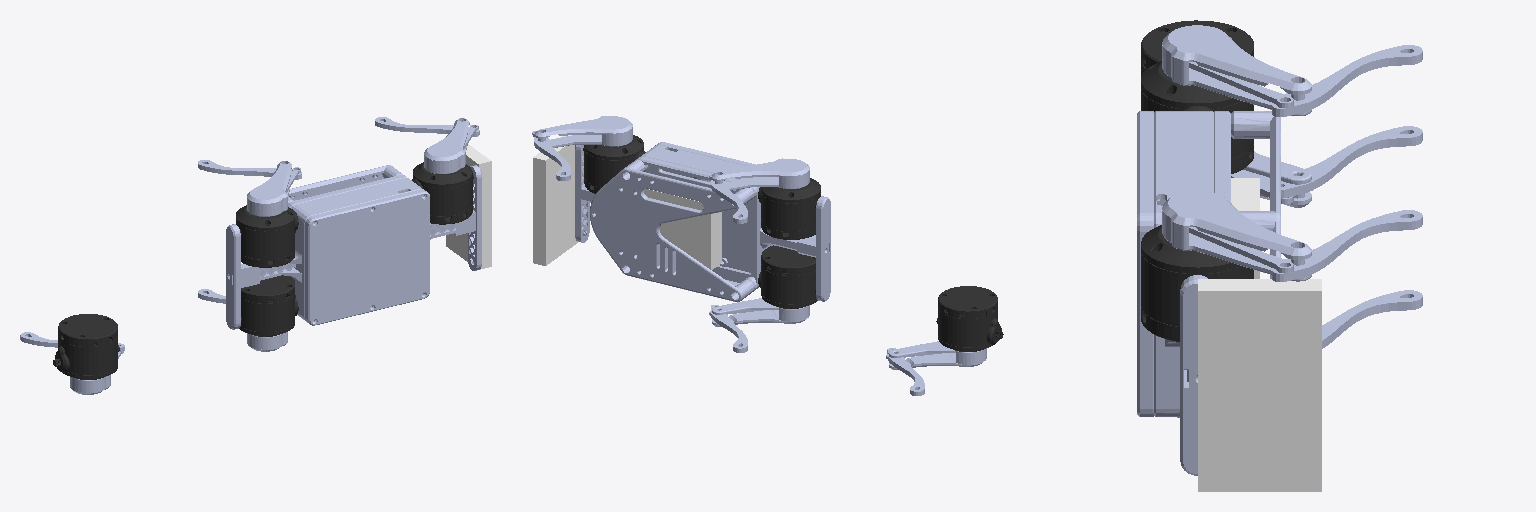
URDF robot description (sku_2Full_assem_simplified_urdf):
<?xml version="1.0" encoding="utf-8"?>
<!-- This URDF was automatically created by SolidWorks to URDF Exporter! Originally created by Stephen Brawner (brawner@gmail.com) 
     Commit Version: 1.6.0-4-g7f85cfe  Build Version: 1.6.7995.38578
     For more information, please see http://wiki.ros.org/sw_urdf_exporter -->
<robot
  name="sku_2Full_assem_simplified_urdf">
  <link
    name="base_body_link">
    <inertial>
      <origin
        xyz="-0.01443514290354 -0.00488145339193701 0.00021453488507993"
        rpy="0 0 0" />
      <mass
        value="0.0844060265233664" />
      <inertia
        ixx="5.48317928616203E-05"
        ixy="3.88290196395637E-07"
        ixz="-2.29831979096762E-07"
        iyy="0.00014634291245006"
        iyz="-2.94795551151482E-08"
        izz="9.41109116990543E-05" />
    </inertial>
    <visual>
      <origin
        xyz="0 0 0"
        rpy="0 0 0" />
      <geometry>
        <mesh
          filename="package://sku_2Full_assem_simplified_urdf/meshes/base_body_link.STL" />
      </geometry>
      <material
        name="">
        <color
          rgba="0.792156862745098 0.819607843137255 0.933333333333333 1" />
      </material>
    </visual>
    <collision>
      <origin
        xyz="0 0 0"
        rpy="0 0 0" />
      <geometry>
        <mesh
          filename="package://sku_2Full_assem_simplified_urdf/meshes/base_body_link.STL" />
      </geometry>
    </collision>
  </link>
  <link
    name="hip_bl_link">
    <inertial>
      <origin
        xyz="0.00305739454529882 0.000222353752204167 0.000996570525543791"
        rpy="0 0 0" />
      <mass
        value="0.0124676995873331" />
      <inertia
        ixx="2.69874411500774E-06"
        ixy="6.31258788275372E-09"
        ixz="-4.98143268777634E-09"
        iyy="1.55229128801334E-06"
        iyz="2.11234692032595E-08"
        izz="1.7188911580115E-06" />
    </inertial>
    <visual>
      <origin
        xyz="0 0 0"
        rpy="0 0 0" />
      <geometry>
        <mesh
          filename="package://sku_2Full_assem_simplified_urdf/meshes/hip_bl_link.STL" />
      </geometry>
      <material
        name="">
        <color
          rgba="0.250980392156863 0.250980392156863 0.250980392156863 1" />
      </material>
    </visual>
    <collision>
      <origin
        xyz="0 0 0"
        rpy="0 0 0" />
      <geometry>
        <mesh
          filename="package://sku_2Full_assem_simplified_urdf/meshes/hip_bl_link.STL" />
      </geometry>
    </collision>
  </link>
  <joint
    name="hip_bl_joint"
    type="continuous">
    <origin
      xyz="-0.0831779908891791 -0.00295599439912009 -0.0315938689216698"
      rpy="3.14159265358979 -1.5707963267949 0" />
    <parent
      link="base_body_link" />
    <child
      link="hip_bl_link" />
    <axis
      xyz="0 0 -1" />
  </joint>
  <link
    name="upper_leg_bl_link">
    <inertial>
      <origin
        xyz="-0.0112951223266859 0.00940773385654374 0.00648095878313921"
        rpy="0 0 0" />
      <mass
        value="0.00590371930115601" />
      <inertia
        ixx="9.4225779285068E-07"
        ixy="7.85648315383251E-07"
        ixz="-3.38240972987907E-08"
        iyy="1.08785583560813E-06"
        iyz="2.9608561624401E-08"
        izz="1.99013899424611E-06" />
    </inertial>
    <visual>
      <origin
        xyz="0 0 0"
        rpy="0 0 0" />
      <geometry>
        <mesh
          filename="package://sku_2Full_assem_simplified_urdf/meshes/upper_leg_bl_link.STL" />
      </geometry>
      <material
        name="">
        <color
          rgba="0.792156862745098 0.819607843137255 0.933333333333333 1" />
      </material>
    </visual>
    <collision>
      <origin
        xyz="0 0 0"
        rpy="0 0 0" />
      <geometry>
        <mesh
          filename="package://sku_2Full_assem_simplified_urdf/meshes/upper_leg_bl_link.STL" />
      </geometry>
    </collision>
  </link>
  <joint
    name="upper_leg_bl_joint"
    type="continuous">
    <origin
      xyz="-0.012475 0 0"
      rpy="3.14159265358979 1.5707963267949 0" />
    <parent
      link="hip_bl_link" />
    <child
      link="upper_leg_bl_link" />
    <axis
      xyz="0 0 -1" />
  </joint>
  <link
    name="lower_leg_bl_link">
    <inertial>
      <origin
        xyz="0.0175539174913911 0.0154933945838087 -4.56848645857821E-08"
        rpy="0 0 0" />
      <mass
        value="0.00154021620116647" />
      <inertia
        ixx="3.28201483564658E-07"
        ixy="-3.46810154724942E-07"
        ixz="1.50431406009367E-12"
        iyy="3.97708266889872E-07"
        iyz="7.54119366936283E-13"
        izz="7.23114297685854E-07" />
    </inertial>
    <visual>
      <origin
        xyz="0 0 0"
        rpy="0 0 0" />
      <geometry>
        <mesh
          filename="package://sku_2Full_assem_simplified_urdf/meshes/lower_leg_bl_link.STL" />
      </geometry>
      <material
        name="">
        <color
          rgba="0.792156862745098 0.819607843137255 0.933333333333333 1" />
      </material>
    </visual>
    <collision>
      <origin
        xyz="0 0 0"
        rpy="0 0 0" />
      <geometry>
        <mesh
          filename="package://sku_2Full_assem_simplified_urdf/meshes/lower_leg_bl_link.STL" />
      </geometry>
    </collision>
  </link>
  <joint
    name="lower_leg_bl_joint"
    type="continuous">
    <origin
      xyz="-0.0353553390593255 0.0353553390593252 0.00365000000000001"
      rpy="0 0 0" />
    <parent
      link="upper_leg_bl_link" />
    <child
      link="lower_leg_bl_link" />
    <axis
      xyz="0 0 1" />
  </joint>
  <link
    name="hip_br_link">
    <inertial>
      <origin
        xyz="-0.00305739454529885 -0.000222353752204162 0.00099657052554375"
        rpy="0 0 0" />
      <mass
        value="0.0124676995873331" />
      <inertia
        ixx="2.69874411500774E-06"
        ixy="6.31258788275444E-09"
        ixz="4.98143268777621E-09"
        iyy="1.55229128801333E-06"
        iyz="-2.11234692032608E-08"
        izz="1.7188911580115E-06" />
    </inertial>
    <visual>
      <origin
        xyz="0 0 0"
        rpy="0 0 0" />
      <geometry>
        <mesh
          filename="package://sku_2Full_assem_simplified_urdf/meshes/hip_br_link.STL" />
      </geometry>
      <material
        name="">
        <color
          rgba="0.250980392156863 0.250980392156863 0.250980392156863 1" />
      </material>
    </visual>
    <collision>
      <origin
        xyz="0 0 0"
        rpy="0 0 0" />
      <geometry>
        <mesh
          filename="package://sku_2Full_assem_simplified_urdf/meshes/hip_br_link.STL" />
      </geometry>
    </collision>
  </link>
  <joint
    name="hip_br_joint"
    type="continuous">
    <origin
      xyz="-0.083178 -0.002956 0.031406"
      rpy="3.1416 -1.5708 0" />
    <parent
      link="base_body_link" />
    <child
      link="hip_br_link" />
    <axis
      xyz="0 0 -1" />
  </joint>
  <link
    name="upper_leg_br_link">
    <inertial>
      <origin
        xyz="-0.0112951164767254 0.00940773649111169 -0.00648096391164668"
        rpy="0 0 0" />
      <mass
        value="0.00590370934940819" />
      <inertia
        ixx="9.42257845048413E-07"
        ixy="7.85649018987107E-07"
        ixz="3.38242966092714E-08"
        iyy="1.08785613726443E-06"
        iyz="-2.96086024836601E-08"
        izz="1.99013930006325E-06" />
    </inertial>
    <visual>
      <origin
        xyz="0 0 0"
        rpy="0 0 0" />
      <geometry>
        <mesh
          filename="package://sku_2Full_assem_simplified_urdf/meshes/upper_leg_br_link.STL" />
      </geometry>
      <material
        name="">
        <color
          rgba="0.792156862745098 0.819607843137255 0.933333333333333 1" />
      </material>
    </visual>
    <collision>
      <origin
        xyz="0 0 0"
        rpy="0 0 0" />
      <geometry>
        <mesh
          filename="package://sku_2Full_assem_simplified_urdf/meshes/upper_leg_br_link.STL" />
      </geometry>
    </collision>
  </link>
  <joint
    name="upper_leg_br_joint"
    type="continuous">
    <origin
      xyz="0.012475 0 0"
      rpy="3.14159265358979 1.5707963267949 0" />
    <parent
      link="hip_br_link" />
    <child
      link="upper_leg_br_link" />
    <axis
      xyz="0 0 -1" />
  </joint>
  <link
    name="lower_leg_br_link">
    <inertial>
      <origin
        xyz="-0.0178014215679345 0.0508487336431342 -0.00365004568486459"
        rpy="0 0 0" />
      <mass
        value="0.00154021620116648" />
      <inertia
        ixx="3.28201483564671E-07"
        ixy="-3.46810154724945E-07"
        ixz="1.50431406013228E-12"
        iyy="3.97708266889863E-07"
        iyz="7.54119366978198E-13"
        izz="7.23114297685858E-07" />
    </inertial>
    <visual>
      <origin
        xyz="0 0 0"
        rpy="0 0 0" />
      <geometry>
        <mesh
          filename="package://sku_2Full_assem_simplified_urdf/meshes/lower_leg_br_link.STL" />
      </geometry>
      <material
        name="">
        <color
          rgba="0.792156862745098 0.819607843137255 0.933333333333333 1" />
      </material>
    </visual>
    <collision>
      <origin
        xyz="0 0 0"
        rpy="0 0 0" />
      <geometry>
        <mesh
          filename="package://sku_2Full_assem_simplified_urdf/meshes/lower_leg_br_link.STL" />
      </geometry>
    </collision>
  </link>
  <joint
    name="lower_leg_br_joint"
    type="continuous">
    <origin
      xyz="0 0 0"
      rpy="0 0 0" />
    <parent
      link="upper_leg_br_link" />
    <child
      link="lower_leg_br_link" />
    <axis
      xyz="0 0 1" />
  </joint>
  <link
    name="hip_fl_link">
    <inertial>
      <origin
        xyz="-0.0599426054547011 -0.000222353752201928 -0.13763172625287"
        rpy="0 0 0" />
      <mass
        value="0.0124676995873331" />
      <inertia
        ixx="2.69874411500775E-06"
        ixy="-6.31258788275412E-09"
        ixz="4.98143268777663E-09"
        iyy="1.55229128801334E-06"
        iyz="2.11234692032556E-08"
        izz="1.7188911580115E-06" />
    </inertial>
    <visual>
      <origin
        xyz="0 0 0"
        rpy="0 0 0" />
      <geometry>
        <mesh
          filename="package://sku_2Full_assem_simplified_urdf/meshes/hip_fl_link.STL" />
      </geometry>
      <material
        name="">
        <color
          rgba="0.250980392156863 0.250980392156863 0.250980392156863 1" />
      </material>
    </visual>
    <collision>
      <origin
        xyz="0 0 0"
        rpy="0 0 0" />
      <geometry>
        <mesh
          filename="package://sku_2Full_assem_simplified_urdf/meshes/hip_fl_link.STL" />
      </geometry>
    </collision>
  </link>
  <joint
    name="hip_fl_joint"
    type="continuous">
    <origin
      xyz="-0.083178 -0.002956 0.031406"
      rpy="3.1416 -1.5708 0" />
    <parent
      link="base_body_link" />
    <child
      link="hip_fl_link" />
    <axis
      xyz="0 0 -1" />
  </joint>
  <link
    name="upper_leg_fl_link">
    <inertial>
      <origin
        xyz="-0.0112951223266859 0.00940773385654379 0.00648095878313923"
        rpy="0 0 0" />
      <mass
        value="0.00590371930115601" />
      <inertia
        ixx="9.4225779285069E-07"
        ixy="7.85648315383253E-07"
        ixz="-3.38240972987903E-08"
        iyy="1.08785583560812E-06"
        iyz="2.96085616244012E-08"
        izz="1.9901389942461E-06" />
    </inertial>
    <visual>
      <origin
        xyz="0 0 0"
        rpy="0 0 0" />
      <geometry>
        <mesh
          filename="package://sku_2Full_assem_simplified_urdf/meshes/upper_leg_fl_link.STL" />
      </geometry>
      <material
        name="">
        <color
          rgba="0.792156862745098 0.819607843137255 0.933333333333333 1" />
      </material>
    </visual>
    <collision>
      <origin
        xyz="0 0 0"
        rpy="0 0 0" />
      <geometry>
        <mesh
          filename="package://sku_2Full_assem_simplified_urdf/meshes/upper_leg_fl_link.STL" />
      </geometry>
    </collision>
  </link>
  <joint
    name="upper_leg_fl_joint"
    type="continuous">
    <origin
      xyz="-0.075475 0 -0.136635155727326"
      rpy="3.14159265358979 1.5707963267949 0" />
    <parent
      link="hip_fl_link" />
    <child
      link="upper_leg_fl_link" />
    <axis
      xyz="0 0 -1" />
  </joint>
  <link
    name="lower_leg_fl_link">
    <inertial>
      <origin
        xyz="0.0101582236056006 0.00939685501538513 -4.56848645719043E-08"
        rpy="0 0 0" />
      <mass
        value="0.00154021620116648" />
      <inertia
        ixx="3.28201483564664E-07"
        ixy="-3.46810154724943E-07"
        ixz="1.50431406022972E-12"
        iyy="3.97708266889866E-07"
        iyz="7.54119367076469E-13"
        izz="7.23114297685854E-07" />
    </inertial>
    <visual>
      <origin
        xyz="0 0 0"
        rpy="0 0 0" />
      <geometry>
        <mesh
          filename="package://sku_2Full_assem_simplified_urdf/meshes/lower_leg_fl_link.STL" />
      </geometry>
      <material
        name="">
        <color
          rgba="0.792156862745098 0.819607843137255 0.933333333333333 1" />
      </material>
    </visual>
    <collision>
      <origin
        xyz="0 0 0"
        rpy="0 0 0" />
      <geometry>
        <mesh
          filename="package://sku_2Full_assem_simplified_urdf/meshes/lower_leg_fl_link.STL" />
      </geometry>
    </collision>
  </link>
  <joint
    name="lower_leg_fl_joint"
    type="continuous">
    <origin
      xyz="-0.0279596451735379 0.0414518786277482 0.00365000000000002"
      rpy="0 0 0" />
    <parent
      link="upper_leg_fl_link" />
    <child
      link="lower_leg_fl_link" />
    <axis
      xyz="0 0 -1" />
  </joint>
  <link
    name="hip_fr_link">
    <inertial>
      <origin
        xyz="-0.00305739454529883 0.000222353752204171 -0.000996570525543819"
        rpy="0 0 0" />
      <mass
        value="0.0124676995873331" />
      <inertia
        ixx="2.69874411500774E-06"
        ixy="-6.31258788275341E-09"
        ixz="-4.98143268777577E-09"
        iyy="1.55229128801333E-06"
        iyz="-2.1123469203261E-08"
        izz="1.7188911580115E-06" />
    </inertial>
    <visual>
      <origin
        xyz="0 0 0"
        rpy="0 0 0" />
      <geometry>
        <mesh
          filename="package://sku_2Full_assem_simplified_urdf/meshes/hip_fr_link.STL" />
      </geometry>
      <material
        name="">
        <color
          rgba="0.250980392156863 0.250980392156863 0.250980392156863 1" />
      </material>
    </visual>
    <collision>
      <origin
        xyz="0 0 0"
        rpy="0 0 0" />
      <geometry>
        <mesh
          filename="package://sku_2Full_assem_simplified_urdf/meshes/hip_fr_link.STL" />
      </geometry>
    </collision>
  </link>
  <joint
    name="hip_fr_joint"
    type="continuous">
    <origin
      xyz="0.053457 -0.002956 0.031406"
      rpy="3.1416 -1.5708 0" />
    <parent
      link="base_body_link" />
    <child
      link="hip_fr_link" />
    <axis
      xyz="0 0 1" />
  </joint>
  <link
    name="upper_leg_fr_link">
    <inertial>
      <origin
        xyz="-0.0112951164767255 0.00940773649111164 -0.00648096391164669"
        rpy="0 0 0" />
      <mass
        value="0.00590370934940819" />
      <inertia
        ixx="9.42257845048404E-07"
        ixy="7.85649018987105E-07"
        ixz="3.38242966092719E-08"
        iyy="1.08785613726444E-06"
        iyz="-2.960860248366E-08"
        izz="1.99013930006325E-06" />
    </inertial>
    <visual>
      <origin
        xyz="0 0 0"
        rpy="0 0 0" />
      <geometry>
        <mesh
          filename="package://sku_2Full_assem_simplified_urdf/meshes/upper_leg_fr_link.STL" />
      </geometry>
      <material
        name="">
        <color
          rgba="0.792156862745098 0.819607843137255 0.933333333333333 1" />
      </material>
    </visual>
    <collision>
      <origin
        xyz="0 0 0"
        rpy="0 0 0" />
      <geometry>
        <mesh
          filename="package://sku_2Full_assem_simplified_urdf/meshes/upper_leg_fr_link.STL" />
      </geometry>
    </collision>
  </link>
  <joint
    name="upper_leg_fr_joint"
    type="continuous">
    <origin
      xyz="0.012075 0 0"
      rpy="3.14159265358979 1.5707963267949 0" />
    <parent
      link="hip_fr_link" />
    <child
      link="upper_leg_fr_link" />
    <axis
      xyz="0 0 -1" />
  </joint>
  <link
    name="lower_leg_fr_link">
    <inertial>
      <origin
        xyz="0.0175539174913905 0.0154933945838086 -4.56848645857821E-08"
        rpy="0 0 0" />
      <mass
        value="0.00154021620116648" />
      <inertia
        ixx="3.28201483564675E-07"
        ixy="-3.46810154724945E-07"
        ixz="1.5043140601775E-12"
        iyy="3.97708266889858E-07"
        iyz="7.54119367036725E-13"
        izz="7.23114297685857E-07" />
    </inertial>
    <visual>
      <origin
        xyz="0 0 0"
        rpy="0 0 0" />
      <geometry>
        <mesh
          filename="package://sku_2Full_assem_simplified_urdf/meshes/lower_leg_fr_link.STL" />
      </geometry>
      <material
        name="">
        <color
          rgba="0.792156862745098 0.819607843137255 0.933333333333333 1" />
      </material>
    </visual>
    <collision>
      <origin
        xyz="0 0 0"
        rpy="0 0 0" />
      <geometry>
        <mesh
          filename="package://sku_2Full_assem_simplified_urdf/meshes/lower_leg_fr_link.STL" />
      </geometry>
    </collision>
  </link>
  <joint
    name="lower_leg_fr_joint"
    type="fixed">
    <origin
      xyz="-0.0353553390593255 0.0353553390593251 -0.00364999999999999"
      rpy="0 0 0" />
    <parent
      link="upper_leg_fr_link" />
    <child
      link="lower_leg_fr_link" />
    <axis
      xyz="0 0 0" />
  </joint>
  <link
    name="display_link">
    <inertial>
      <origin
        xyz="0.005 1.05760292402634E-16 -3.46944695195361E-18"
        rpy="0 0 0" />
      <mass
        value="0.0349436822626263" />
      <inertia
        ixx="2.33338450759868E-05"
        ixy="3.14859435133276E-19"
        ixz="-2.37958907020067E-23"
        iyy="5.90859551917843E-06"
        iyz="-1.85820511583183E-21"
        izz="1.80076442611855E-05" />
    </inertial>
    <visual>
      <origin
        xyz="0 0 0"
        rpy="0 0 0" />
      <geometry>
        <mesh
          filename="package://sku_2Full_assem_simplified_urdf/meshes/display_link.STL" />
      </geometry>
      <material
        name="">
        <color
          rgba="1 1 1 1" />
      </material>
    </visual>
    <collision>
      <origin
        xyz="0 0 0"
        rpy="0 0 0" />
      <geometry>
        <mesh
          filename="package://sku_2Full_assem_simplified_urdf/meshes/display_link.STL" />
      </geometry>
    </collision>
  </link>
  <joint
    name="display_joint"
    type="fixed">
    <origin
      xyz="0.081057 0.019005 -9.3869E-05"
      rpy="-1.5708 0 0" />
    <parent
      link="base_body_link" />
    <child
      link="display_link" />
    <axis
      xyz="0 0 0" />
  </joint>
  <link
    name="raspberry_link">
    <inertial>
      <origin
        xyz="0 -0.0075 -1.85337856173362E-19"
        rpy="0 0 0" />
      <mass
        value="0.0456141" />
      <inertia
        ixx="9.98188555E-06"
        ixy="1.12440674999992E-23"
        ixz="-5.35941720748259E-24"
        iyy="2.1913773875E-05"
        iyz="4.17782398712321E-22"
        izz="1.3642417075E-05" />
    </inertial>
    <visual>
      <origin
        xyz="0 0 0"
        rpy="0 0 0" />
      <geometry>
        <mesh
          filename="package://sku_2Full_assem_simplified_urdf/meshes/raspberry_link.STL" />
      </geometry>
      <material
        name="">
        <color
          rgba="1 1 1 0.35" />
      </material>
    </visual>
    <collision>
      <origin
        xyz="0 0 0"
        rpy="0 0 0" />
      <geometry>
        <mesh
          filename="package://sku_2Full_assem_simplified_urdf/meshes/raspberry_link.STL" />
      </geometry>
    </collision>
  </link>
  <joint
    name="raspberry_link"
    type="fixed">
    <origin
      xyz="-0.00486041302551651 0.0189040056008799 -9.38689216697697E-05"
      rpy="0 0 0" />
    <parent
      link="base_body_link" />
    <child
      link="raspberry_link" />
    <axis
      xyz="0 0 0" />
  </joint>
</robot>

--- Facts derived from the render (not from the file) ---
3 views of the same robot in one strip: view 1: azimuth 30°, elevation 25°; view 2: azimuth 150°, elevation 25°; view 3: azimuth 270°, elevation 25° (orthographic).
Robot: sku_2Full_assem_simplified_urdf — 15 links, 14 joints (11 continuous, 3 fixed); root link base_body_link; default pose: all joints at 0.
Visible links, largest first — view 1: base_body_link, hip_fl_link, hip_br_link, hip_bl_link, hip_fr_link, display_link, upper_leg_fr_link, upper_leg_br_link, lower_leg_fr_link, lower_leg_br_link, upper_leg_fl_link, upper_leg_bl_link; view 2: base_body_link, display_link, hip_fl_link, hip_bl_link, hip_br_link, raspberry_link, upper_leg_fr_link, upper_leg_br_link, hip_fr_link, upper_leg_bl_link, upper_leg_fl_link, lower_leg_br_link (+3 smaller); view 3: display_link, base_body_link, upper_leg_fr_link, upper_leg_br_link, hip_fr_link, hip_br_link, lower_leg_br_link, lower_leg_fr_link, lower_leg_fl_link, lower_leg_bl_link, upper_leg_fl_link, hip_fl_link (+1 smaller).
Boxes of the visible links, x1,y1,x2,y2 form: base_body_link: (226, 165, 481, 329); hip_fl_link: (53, 314, 119, 379); hip_br_link: (236, 205, 298, 267); hip_bl_link: (239, 275, 298, 336); hip_fr_link: (412, 162, 473, 224); display_link: (446, 144, 491, 269); upper_leg_fr_link: (424, 118, 478, 173); upper_leg_br_link: (247, 161, 300, 216); lower_leg_fr_link: (375, 117, 479, 136); lower_leg_br_link: (198, 160, 301, 179); upper_leg_fl_link: (70, 352, 123, 394); upper_leg_bl_link: (247, 332, 287, 351); base_body_link: (575, 142, 830, 301); display_link: (533, 135, 577, 265); hip_fl_link: (936, 286, 1003, 351); hip_bl_link: (758, 245, 817, 308); hip_br_link: (758, 178, 820, 239); raspberry_link: (644, 189, 721, 269); upper_leg_fr_link: (532, 116, 632, 147); upper_leg_br_link: (709, 158, 809, 191); hip_fr_link: (583, 135, 645, 193); upper_leg_bl_link: (709, 298, 809, 326); upper_leg_fl_link: (886, 341, 986, 369); lower_leg_br_link: (711, 180, 747, 223); display_link: (1198, 279, 1321, 491); base_body_link: (1137, 111, 1280, 475); upper_leg_fr_link: (1162, 190, 1311, 281); upper_leg_br_link: (1162, 25, 1311, 115); hip_fr_link: (1141, 225, 1253, 341); hip_br_link: (1141, 61, 1253, 173); lower_leg_br_link: (1272, 45, 1422, 116); lower_leg_fr_link: (1272, 210, 1422, 281); lower_leg_fl_link: (1281, 126, 1422, 198); lower_leg_bl_link: (1322, 290, 1422, 348); upper_leg_fl_link: (1231, 151, 1311, 207); hip_fl_link: (1141, 20, 1253, 75).
Size in the robot's own frame: 0.3443 by 0.1006 by 0.112 metres.
15 mesh visuals loaded from 15 distinct referenced files (15 binary STL).
